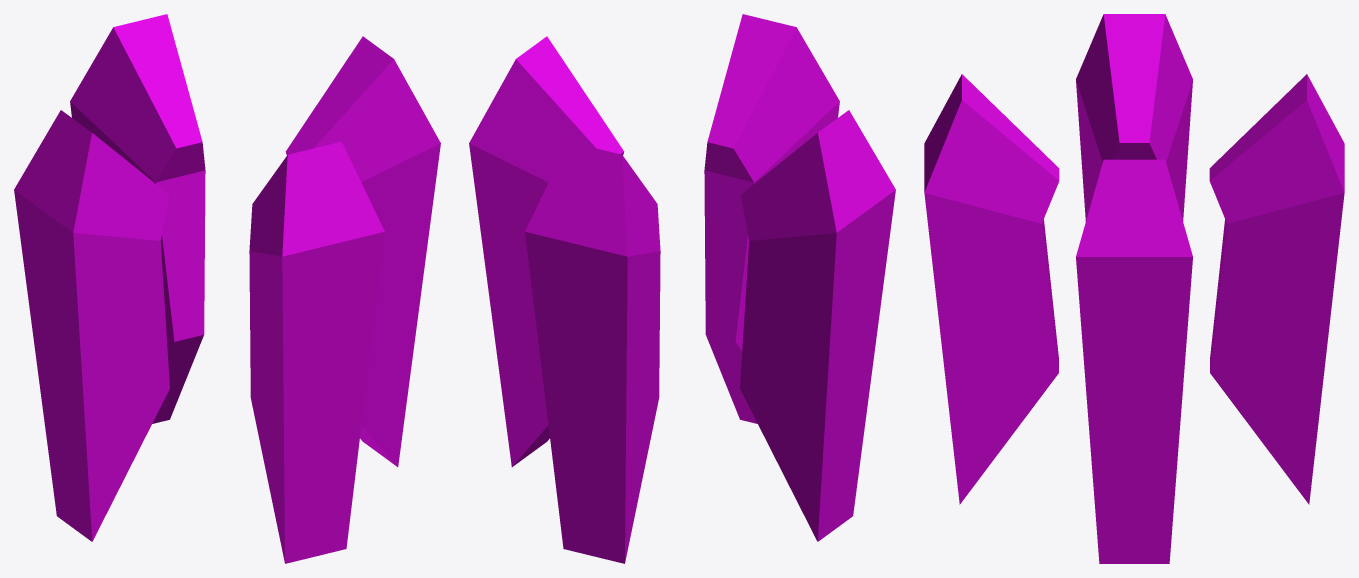
Rendered from Basereplacement.fbx.
3 renders of one model, left to right at view 1: azimuth 30°, elevation 25°; view 2: azimuth 150°, elevation 25°; view 3: azimuth 270°, elevation 25°, orthographic.
Visible parts, largest first — view 1: Cube.001; view 2: Cube.001; view 3: Cube.001.
Boxes of the visible parts, x1,y1,x2,y2 form: Cube.001: (14, 14, 440, 563); Cube.001: (469, 14, 895, 563); Cube.001: (924, 14, 1344, 563).
Bounding box in the file's own units: 355 × 376 × 355.
